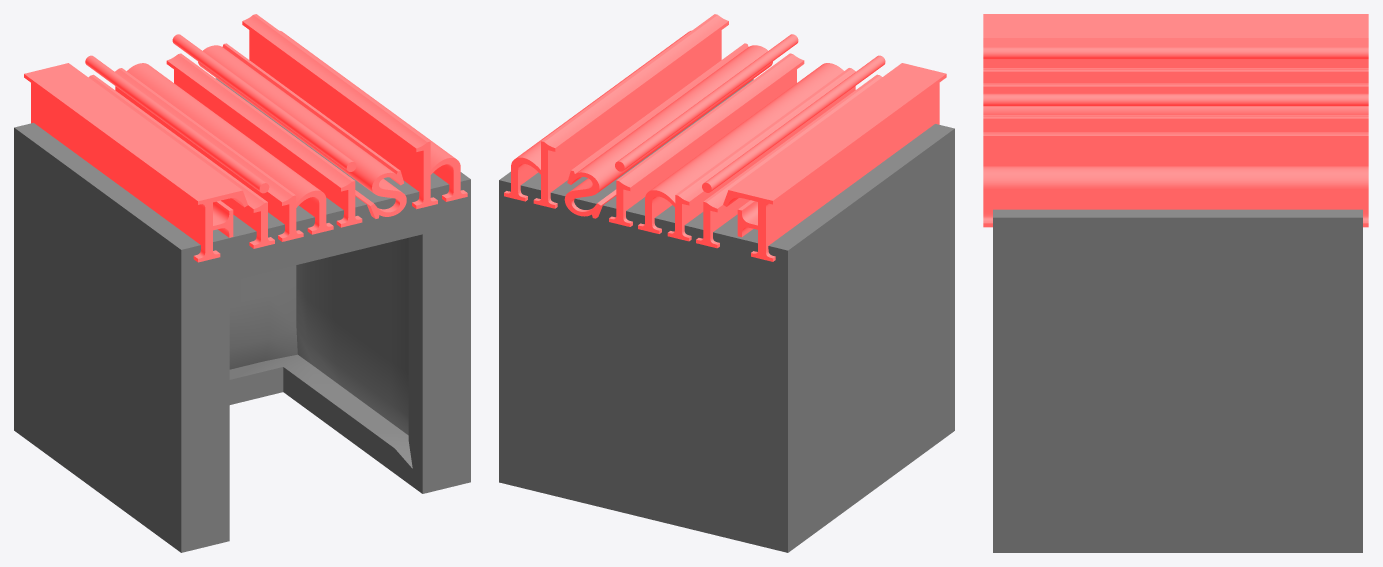
Rendered from Finish.FBX.
The picture shows the model from 3 angles, left to right: view 1: azimuth 30°, elevation 25°; view 2: azimuth 150°, elevation 25°; view 3: azimuth 270°, elevation 25°; orthographic projection. The views are drawn at different scales.
Parts seen in each view (by area): view 1: Box001, Finish; view 2: Box001, Finish; view 3: Box001, Finish.
Part boxes in pixels (x1,y1,x2,y2): Box001: (14,78,470,552); Finish: (24,14,467,262); Box001: (499,79,954,552); Finish: (504,14,946,261); Box001: (993,209,1362,552); Finish: (983,14,1368,227).
Size of the model in its own units: 12 by 14.05 by 12.5.
